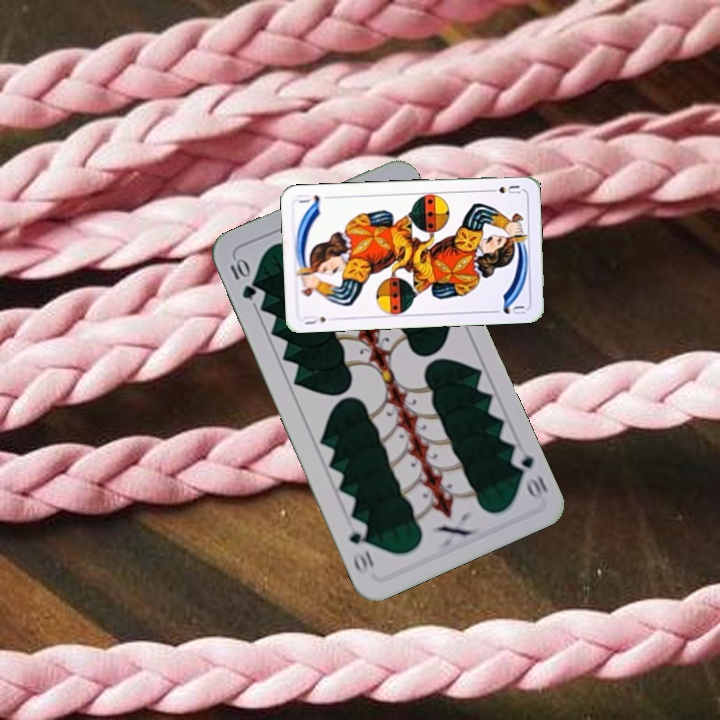G10: (506, 444, 550, 503), (226, 254, 259, 302)
SU: (483, 181, 524, 196), (300, 311, 328, 327)
